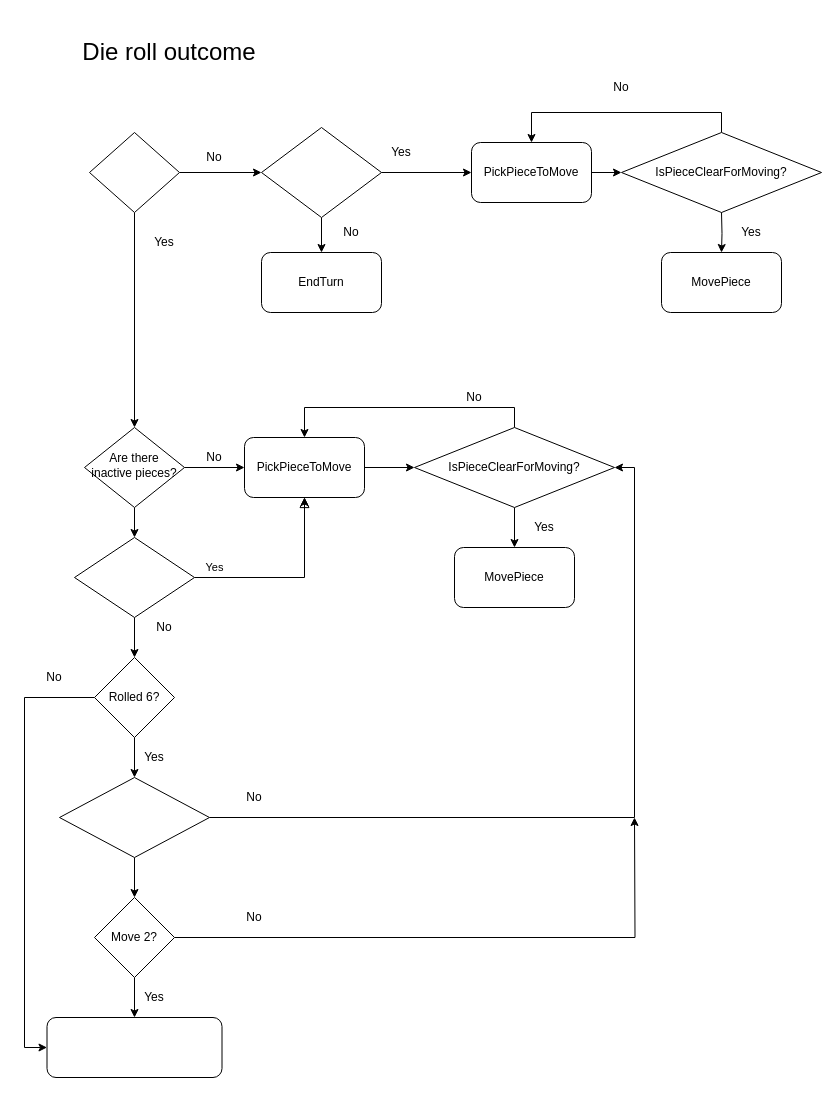
Some shapes in this 839 by 1095 pixel diagram are drawn without their labels. Each missing label, with the centre of its shape:
Are there active pieces?: [321,172]
InactivePiece.Count > 1: [134,817]
MoveActivePiece: [134,577]
MoveToStart (int Pieceamount): [134,1047]
Rolled 1 or 6?: [134,172]
